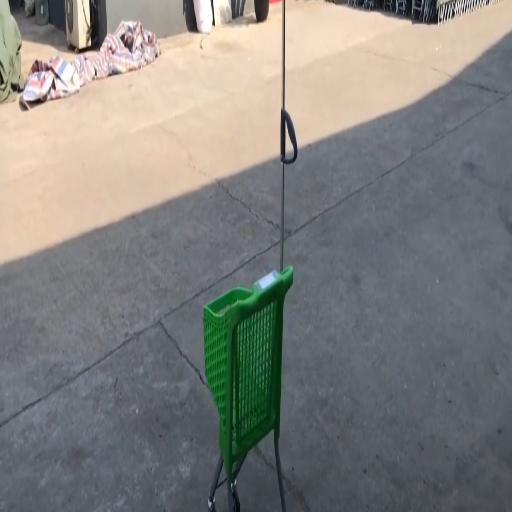shopping_cart: (202, 266, 294, 511)
